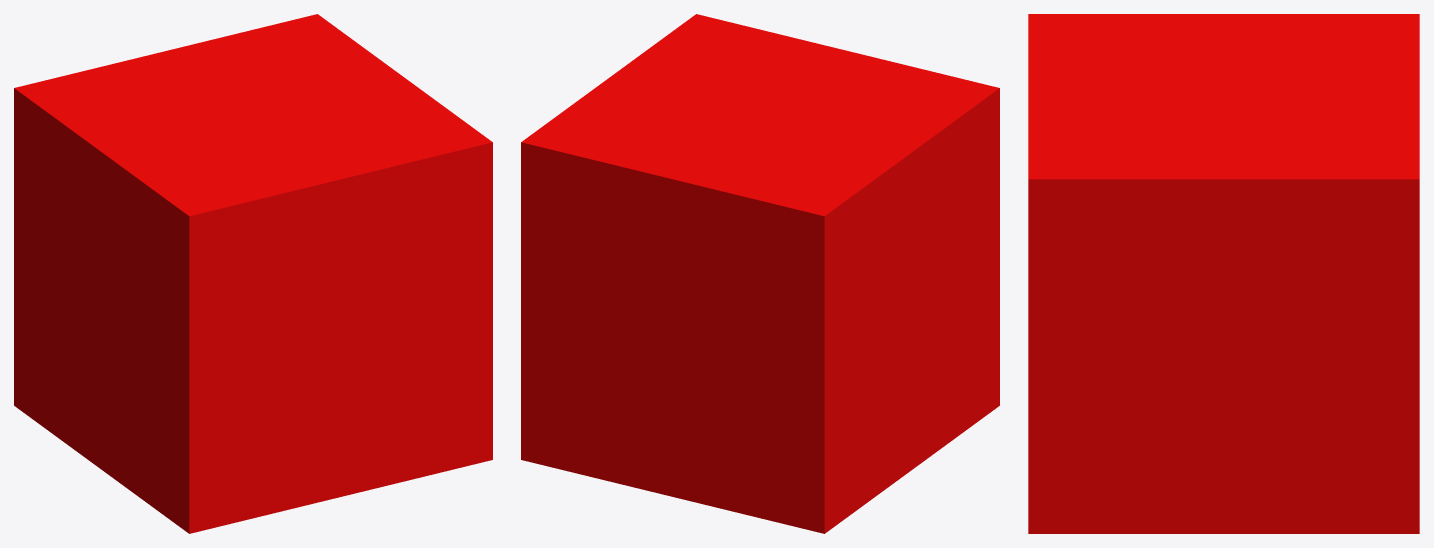
Rendered from morphCube.glb.
3 renders of one model, left to right at view 1: azimuth 30°, elevation 25°; view 2: azimuth 150°, elevation 25°; view 3: azimuth 270°, elevation 25°, orthographic. The views are drawn at different scales.
Size of the model in its own units: 2 by 2 by 2.
